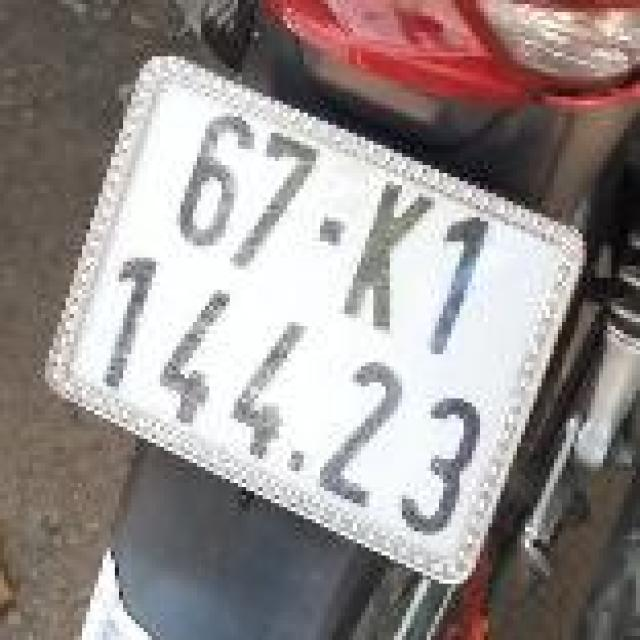1: (407, 198, 515, 370), (86, 242, 176, 399)
2: (306, 349, 424, 518)
3: (394, 386, 500, 547)
4: (213, 302, 342, 474), (148, 274, 260, 437)
6: (166, 99, 271, 254)
7: (222, 123, 329, 284)
K: (332, 168, 453, 353)
